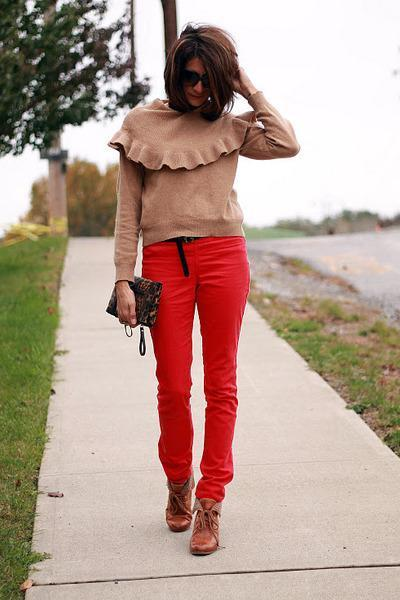bag: (108, 268, 161, 350)
jacket: (97, 92, 299, 281)
pants: (142, 236, 249, 510)
shoe: (166, 476, 220, 556)
